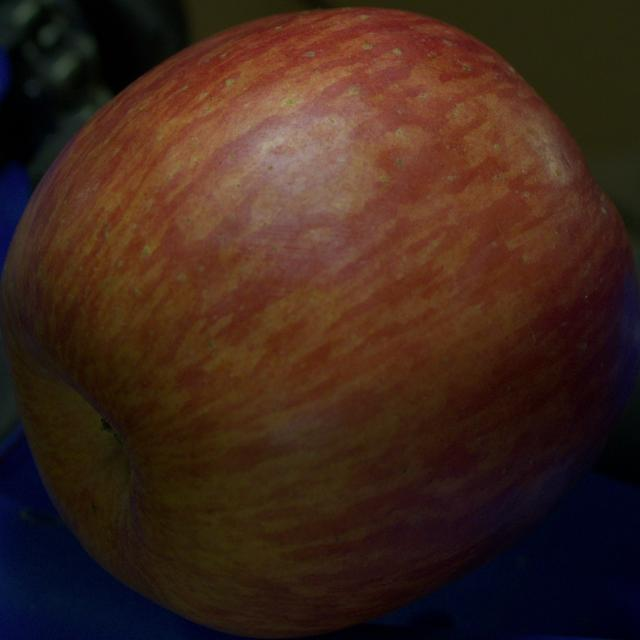apple: (0, 8, 639, 637)
